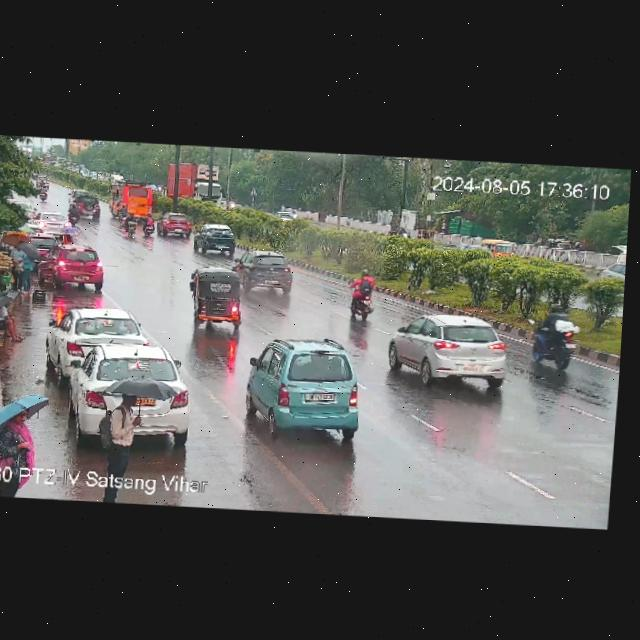bus: (107, 182, 156, 215)
car: (240, 337, 365, 443), (386, 311, 515, 391), (77, 344, 191, 404), (46, 304, 145, 370), (185, 266, 243, 332), (40, 242, 107, 290), (238, 249, 299, 295), (191, 223, 239, 255), (35, 210, 70, 234), (159, 213, 192, 238), (71, 193, 101, 218), (482, 237, 514, 258), (29, 234, 57, 252), (68, 188, 84, 204)
motorcycle: (525, 302, 588, 371), (342, 271, 380, 323), (126, 211, 138, 236), (143, 212, 155, 236), (38, 184, 47, 201), (119, 204, 127, 222)
person: (99, 376, 140, 475), (0, 405, 42, 464), (0, 294, 30, 348), (8, 237, 28, 289), (21, 249, 35, 292), (62, 233, 75, 245)
truck: (165, 162, 223, 202)
